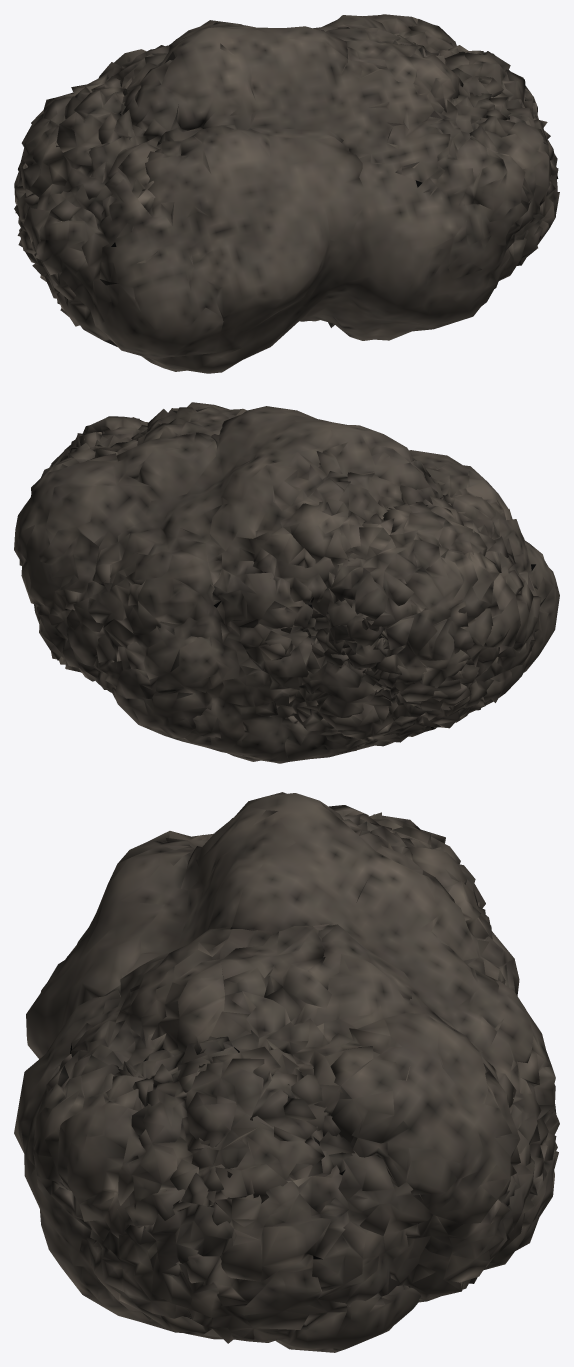
The model's file is large_a.glb.
The picture shows the model from 3 angles, top to bottom: view 1: azimuth 30°, elevation 25°; view 2: azimuth 150°, elevation 25°; view 3: azimuth 270°, elevation 25°; orthographic projection. The views are drawn at different scales.
Parts seen in each view (by area): view 1: AsteroidLargeA; view 2: AsteroidLargeA; view 3: AsteroidLargeA.
Boxes of the visible parts, x1=… form: AsteroidLargeA: x1=14, y1=14, x2=559, y2=373; AsteroidLargeA: x1=14, y1=402, x2=559, y2=763; AsteroidLargeA: x1=14, y1=792, x2=559, y2=1352.
Size of the model in its own units: 1.89 by 1.18 by 1.32.
Materials: 1 (1 with a texture image).
